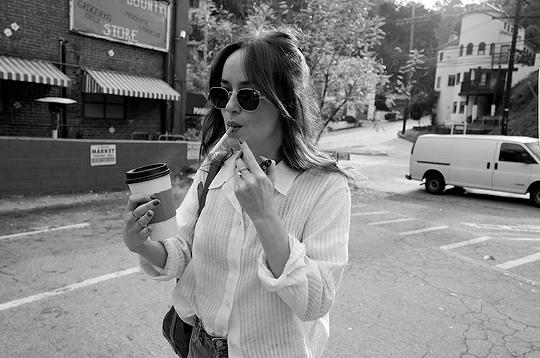cigarette: (207, 127, 235, 157)
